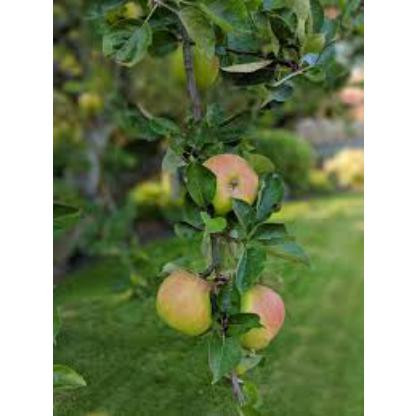apple: (192, 148, 258, 214), (228, 276, 284, 346), (154, 270, 210, 332)
